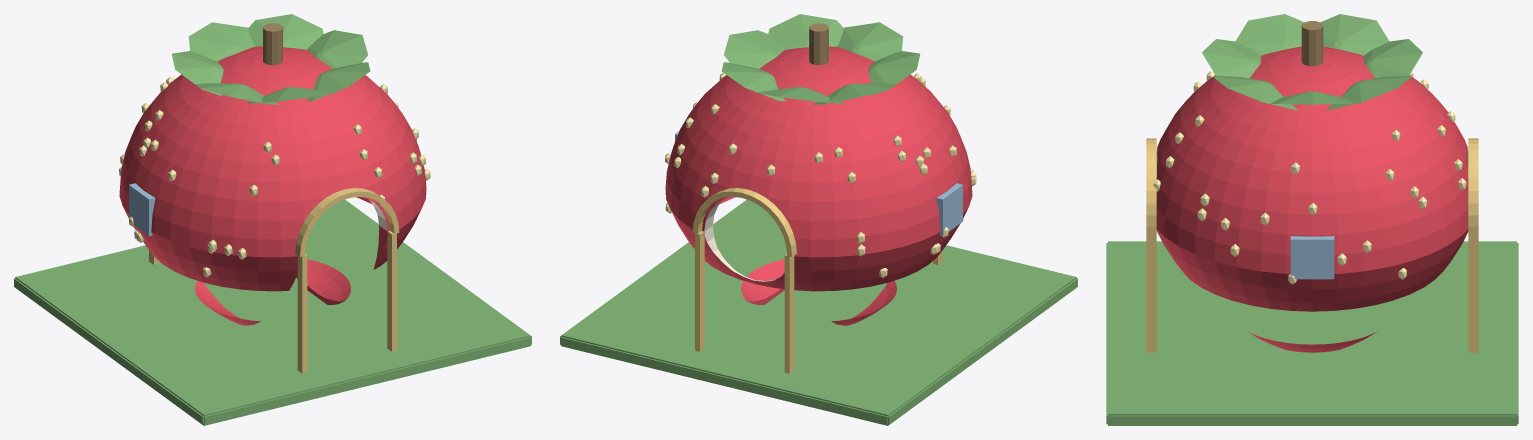
File: HOB_House_Strawberry.fbx
3 renders of one model, left to right at view 1: azimuth 30°, elevation 25°; view 2: azimuth 150°, elevation 25°; view 3: azimuth 270°, elevation 25°, orthographic. The views are drawn at different scales.
Parts seen in each view (by area): view 1: HOB_House_Strawberry; view 2: HOB_House_Strawberry; view 3: HOB_House_Strawberry.
Boxes of the visible parts, left/top/right/bottom form: HOB_House_Strawberry: left=14, top=14, right=531, bottom=425; HOB_House_Strawberry: left=560, top=14, right=1077, bottom=425; HOB_House_Strawberry: left=1106, top=14, right=1518, bottom=425.
Bounding box in the file's own units: 940 × 790 × 940.
